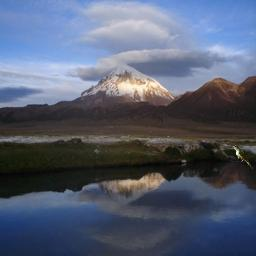Cuckoo: (232, 145, 253, 169)
